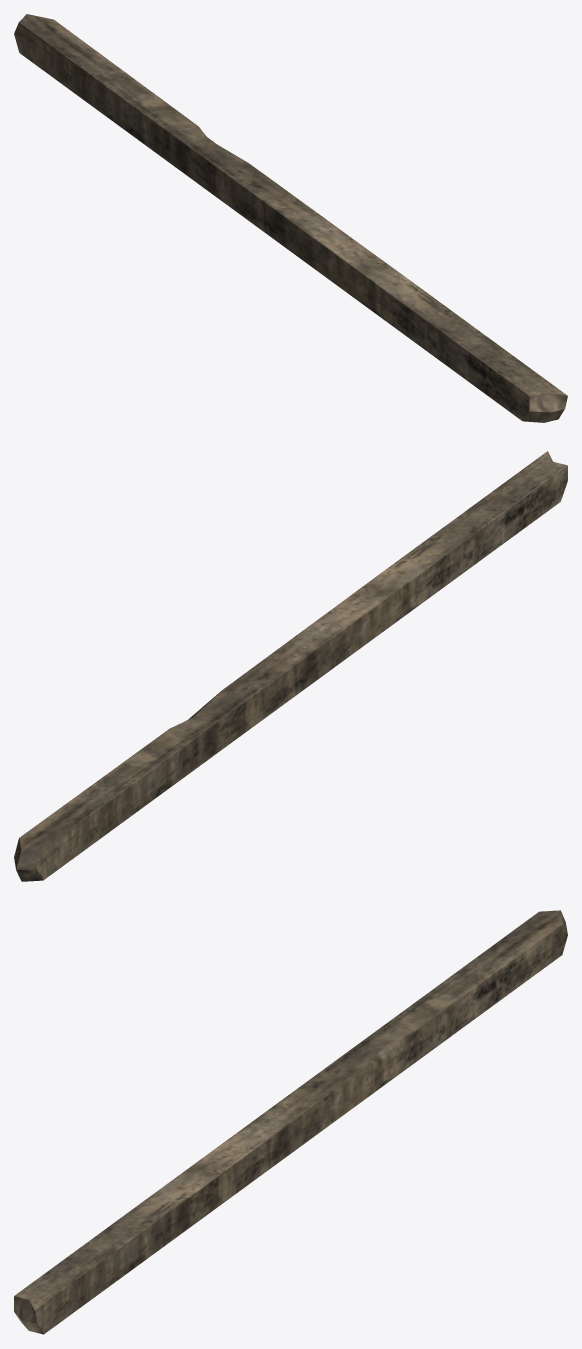
File: fbx_Wood_04.fbx
3 views of the same model, one above another, from view 1: azimuth 30°, elevation 25°; view 2: azimuth 150°, elevation 25°; view 3: azimuth 330°, elevation 25° (orthographic). The views are drawn at different scales.
Parts seen in each view (by area): view 1: post_02; view 2: post_02; view 3: post_02.
Part boxes in pixels (x1,y1,x2,y2): post_02: (14,14,567,422); post_02: (14,451,567,881); post_02: (14,910,567,1334).
Bounding box in the file's own units: 0.00122 × 0.00122 × 0.038.
